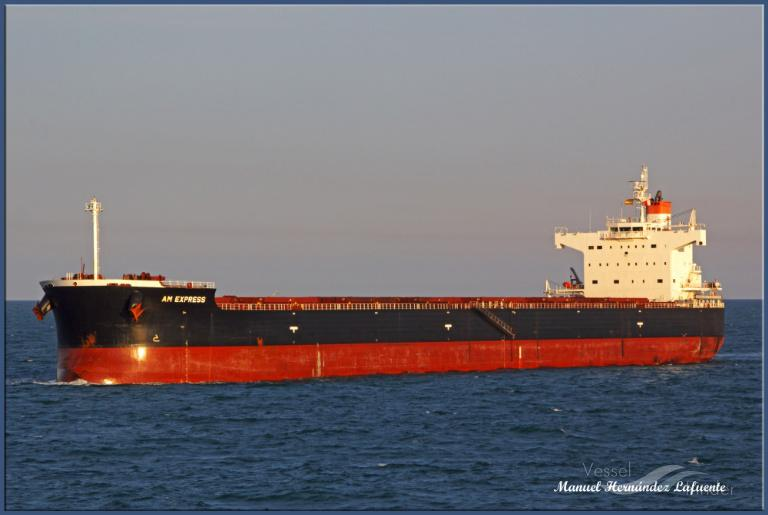OCR: (160, 292, 207, 308)
